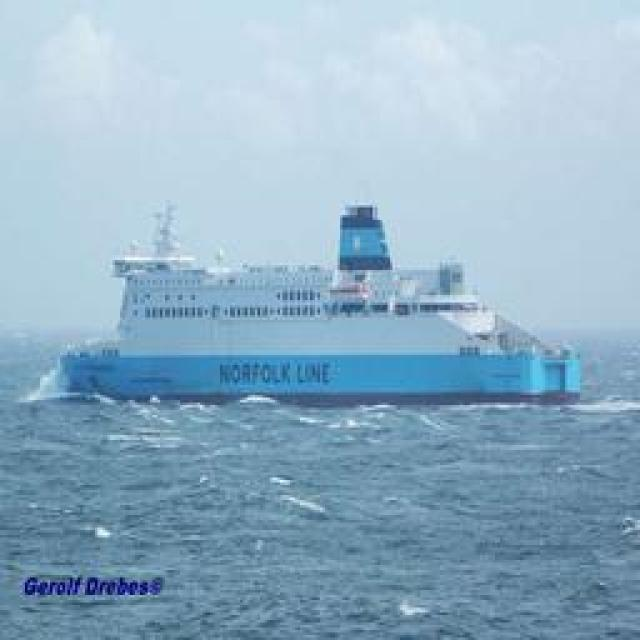ship2: (55, 200, 582, 408)
